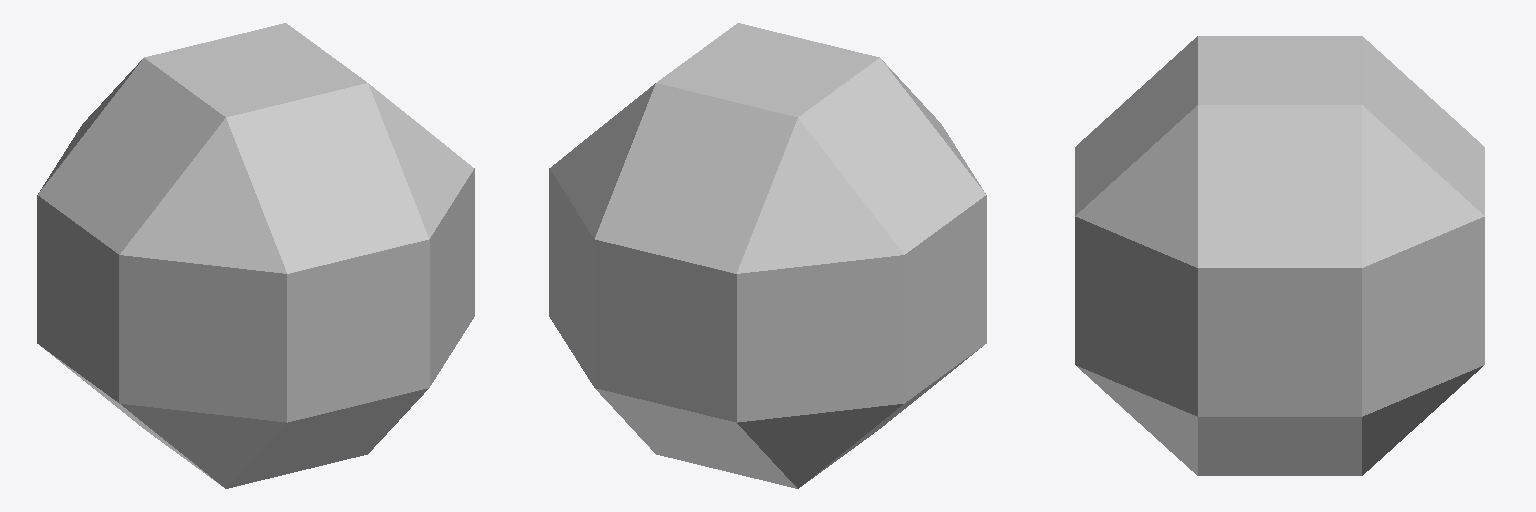
File: rock_push.obj
3 views of the same model, side by side, from view 1: azimuth 30°, elevation 25°; view 2: azimuth 150°, elevation 25°; view 3: azimuth 270°, elevation 25° (orthographic).
Parts seen in each view (by area): view 1: Rock_Push; view 2: Rock_Push; view 3: Rock_Push.
Boxes of the visible parts, box(x1,y1,x2,y2) form: Rock_Push: box(37, 23, 474, 488); Rock_Push: box(549, 23, 986, 488); Rock_Push: box(1075, 36, 1484, 475).
Bounding box in the file's own units: 1 × 1 × 1.